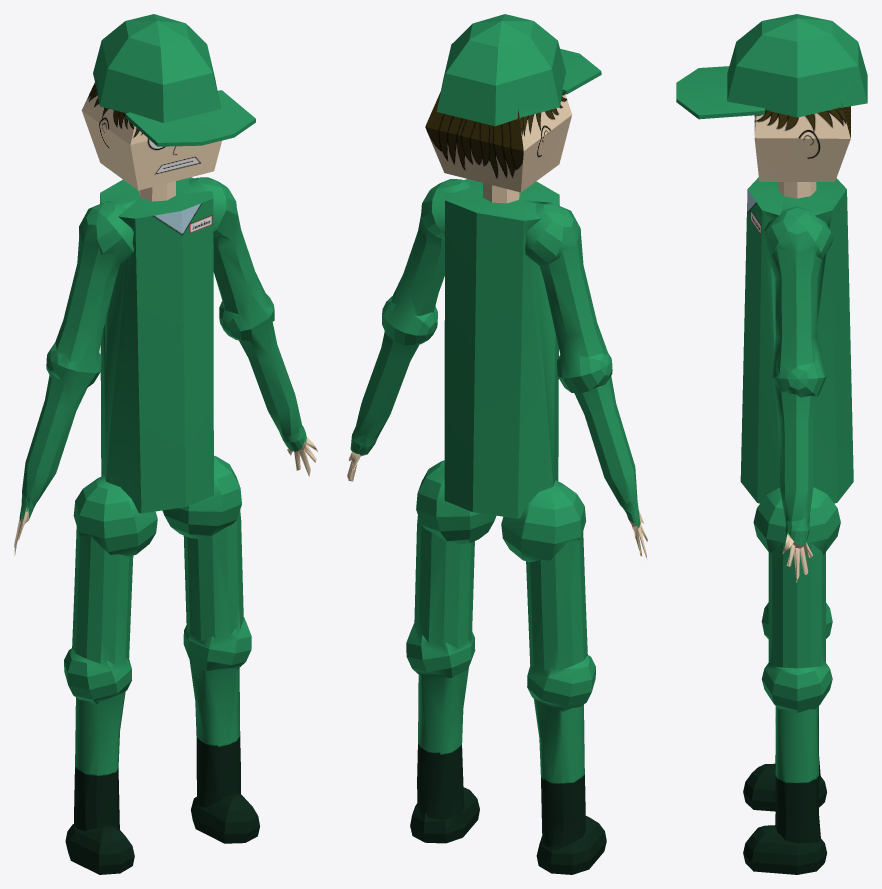
The model's file is janitor.obj.
3 views of the same model, side by side, from view 1: azimuth 30°, elevation 25°; view 2: azimuth 150°, elevation 25°; view 3: azimuth 270°, elevation 25° (orthographic).
Parts seen in each view (by area): view 1: pSphere17; view 2: pSphere17; view 3: pSphere17.
Boxes of the visible parts, <box> form: pSphere17: <box>14,14,318,874</box>; pSphere17: <box>347,14,647,874</box>; pSphere17: <box>676,14,867,874</box>.
Size of the model in its own units: 3.62 by 9.5 by 2.02.
